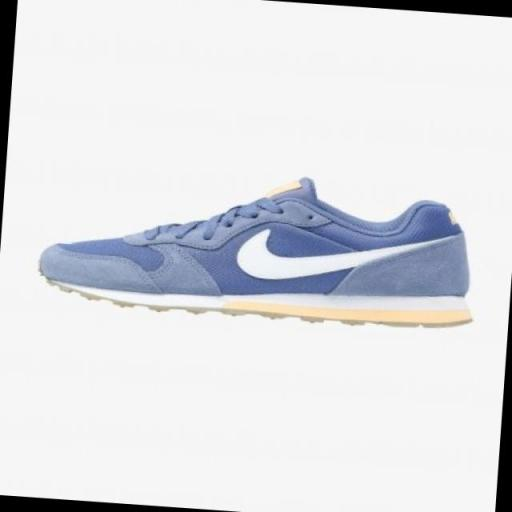Nike: (228, 218, 458, 297)
